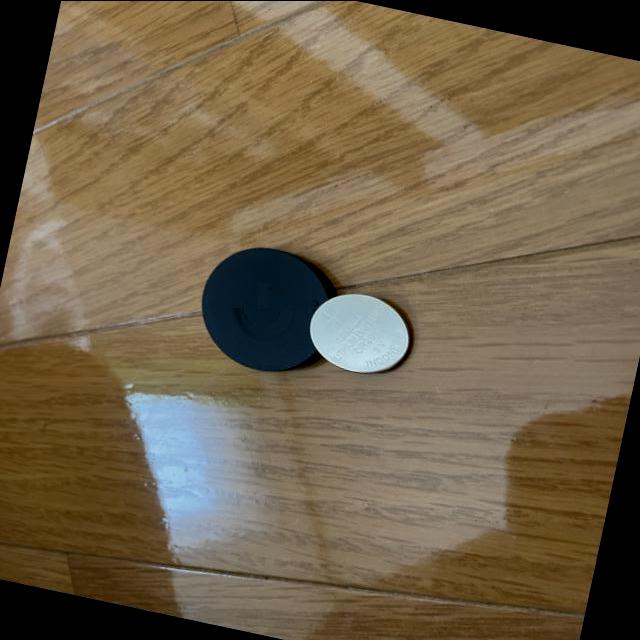COIN: (302, 284, 418, 382)
